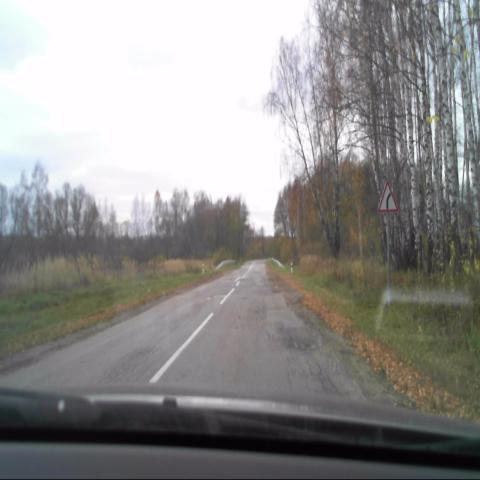1_11: (377, 180, 397, 211)
